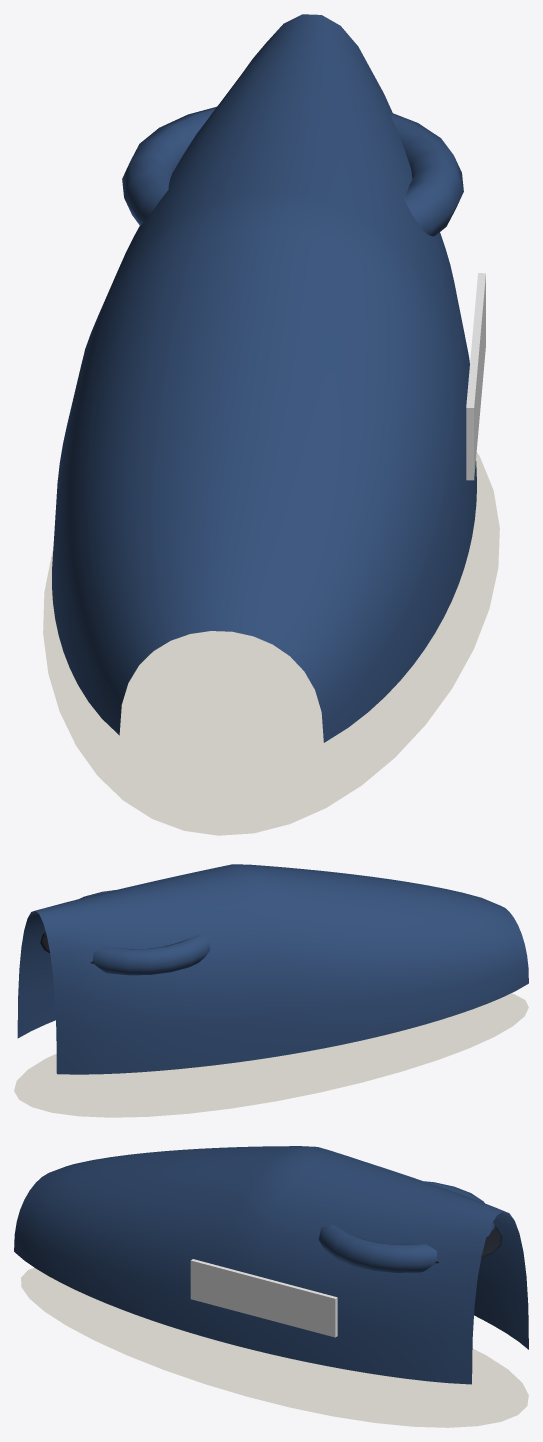
Rendered from shoe.fbx.
The picture shows the model from 3 angles, top to bottom: view 1: azimuth 30°, elevation 25°; view 2: azimuth 150°, elevation 25°; view 3: azimuth 270°, elevation 25°; orthographic projection. The views are drawn at different scales.
Visible parts, largest first — view 1: Shoe; view 2: Shoe; view 3: Shoe.
Part boxes in pixels (x1,y1,x2,y2): Shoe: (43, 14, 499, 835); Shoe: (14, 864, 528, 1117); Shoe: (14, 1146, 528, 1427).
Size of the model in its own units: 0.7885 by 1 by 0.4217.
